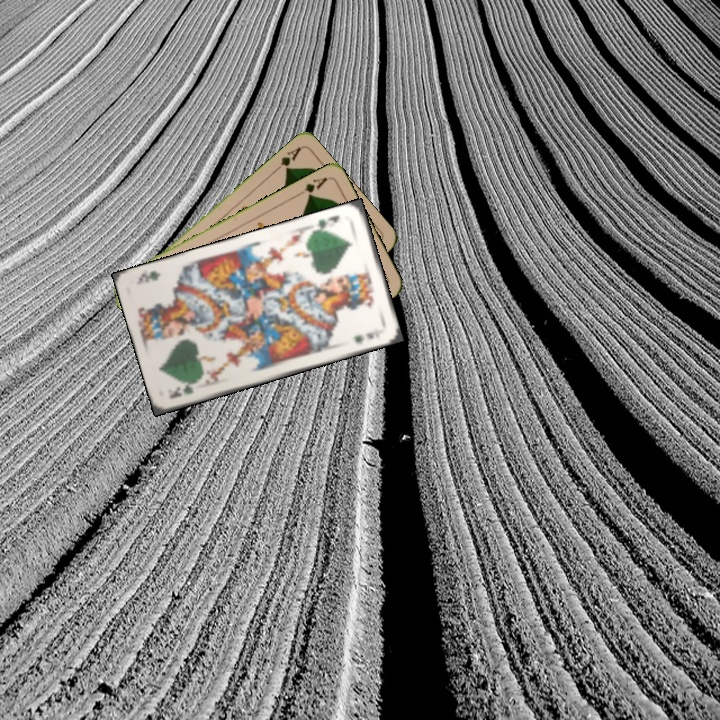GA: (270, 143, 304, 175), (293, 173, 330, 200)
GK: (166, 377, 202, 401), (311, 212, 342, 234)
